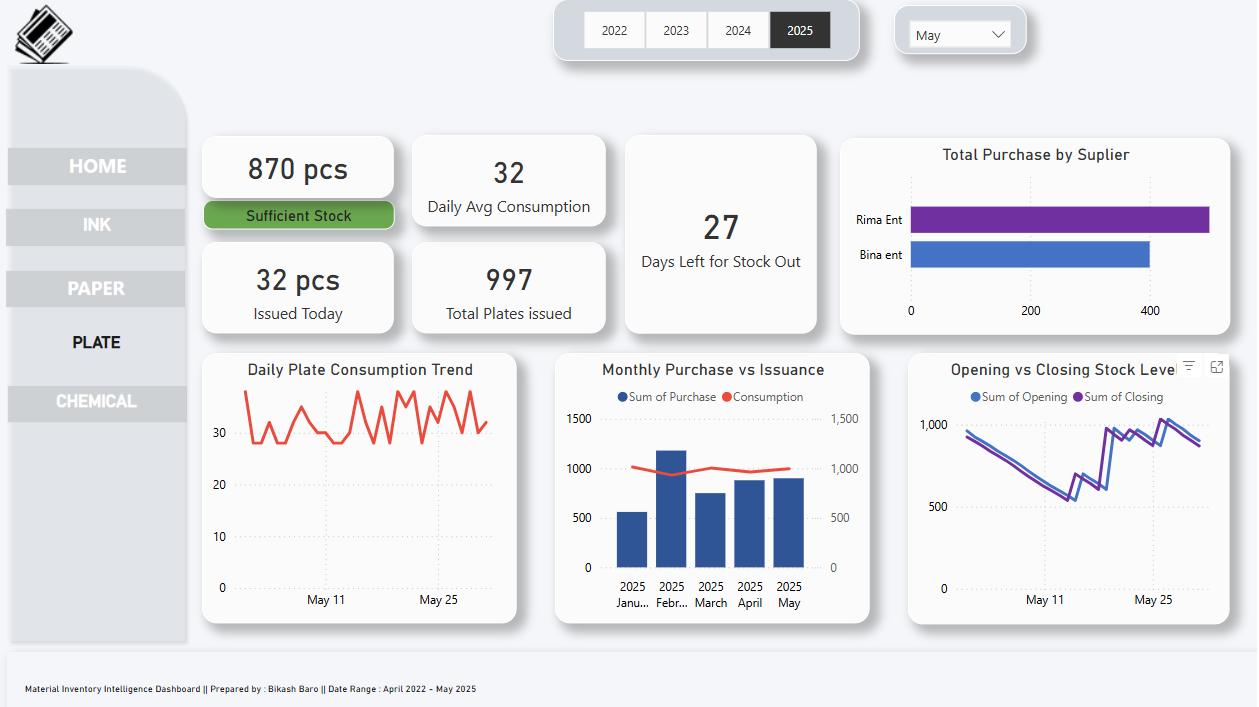

Layout of this report page (visuals, bound fields, positions):
{"tool":"powerbi","page":{"name":"Plate","canvas":[1280,720],"ordinal":3},"visuals":[{"type":"slicer","title":"Fiscal Year","fields":{"Values":["Paper.Date.Variation.Date Hierarchy.Year"]},"box":[563.3,0,311.7,63.3],"z":0},{"type":"slicer","title":"Fiscal Year","fields":{"Values":["Stock Register.Date.Variation.Date Hierarchy.Month"]},"box":[910,6.2,135,50],"z":1000},{"type":"shape","box":[0,59,196.8,601.8],"z":2000},{"type":"card","fields":{"Values":["Plate.Plate Status imported"]},"box":[207.3,204.5,195,30],"z":3000},{"type":"textbox","box":[8.4,334,182,36.4],"z":4000},{"type":"card","fields":{"Values":["Plate.Closing Stock Plates"]},"box":[206.4,139.1,195,62.7],"z":5000},{"type":"card","fields":{"Values":["Sum(Plate.Consumption)"]},"box":[420,246.7,196.7,93.3],"z":6000},{"type":"card","fields":{"Values":["Plate.issued yesterday Plates"]},"box":[206.7,246.7,195,93.3],"z":7000},{"type":"lineClusteredColumnComboChart","title":"Monthly Purchase vs Issuance","fields":{"Y":["Sum(Purchase Plate.Purchase)"],"Y2":["Sum(Plate.Consumption)"],"Category":["Paper.Date.Variation.Date Hierarchy.Year","Paper.Date.Variation.Date Hierarchy.Month"]},"box":[565.5,360,320,275],"z":8000},{"type":"lineChart","title":"Daily Plate Consumption Trend","fields":{"Y":["Sum(Plate.Consumption)"],"Category":["Paper.Date"]},"box":[206.7,360,320,275],"z":9000},{"type":"card","fields":{"Values":["Plate.Stock To Go"]},"box":[636.7,138.3,195,201.7],"z":10000},{"type":"barChart","title":"Total Purchase by Suplier","fields":{"Y":["Sum(Purchase Plate.Purchase)"],"Category":["Purchase Plate.Suplier"]},"box":[855,141.7,396.7,200],"z":11000},{"type":"lineChart","title":"Opening vs Closing Stock Levels","fields":{"Y":["Sum(Plate.Opening)","Sum(Plate.Closing)"],"Category":["Paper.Date"]},"box":[924.3,360,327.1,275.7],"z":12000},{"type":"image","box":[8,0,75,71],"z":14000},{"type":"shape","box":[8.6,664.3,1271.4,55.7],"z":16000},{"type":"card","fields":{"Values":["Plate.Daily Avg Consumption"]},"box":[420,138.3,196.7,93.3],"z":17000},{"type":"image","box":[4.4,142.5,191.9,56.9],"z":18000},{"type":"image","box":[2.4,267.2,192,55.6],"z":19000},{"type":"image","box":[4.4,385.6,191.9,53.1],"z":20000},{"type":"image","box":[2.4,196,192,71.2],"z":21000},{"type":"textbox","box":[21.4,685.7,852.9,34.3],"z":21001}]}

Visuals, with their boxes in screenshot pixels (x1, y1, x2, y2), scaled from the page's 1280x720 canvas onto the 1259x707 screenshot:
"Fiscal Year" slicer: pyautogui.locateOnScreen(554, 0, 861, 62)
"Fiscal Year" slicer: pyautogui.locateOnScreen(895, 6, 1028, 55)
shape: pyautogui.locateOnScreen(0, 58, 194, 649)
card - Plate.Plate Status imported: pyautogui.locateOnScreen(204, 201, 396, 230)
textbox: pyautogui.locateOnScreen(8, 328, 187, 364)
card - Plate.Closing Stock Plates: pyautogui.locateOnScreen(203, 137, 395, 198)
card - Sum(Plate.Consumption): pyautogui.locateOnScreen(413, 242, 607, 334)
card - Plate.issued yesterday Plates: pyautogui.locateOnScreen(203, 242, 395, 334)
"Monthly Purchase vs Issuance" lineClusteredColumnComboChart: pyautogui.locateOnScreen(556, 354, 871, 624)
"Daily Plate Consumption Trend" lineChart: pyautogui.locateOnScreen(203, 354, 518, 624)
card - Plate.Stock To Go: pyautogui.locateOnScreen(626, 136, 818, 334)
"Total Purchase by Suplier" barChart: pyautogui.locateOnScreen(841, 139, 1231, 336)
"Opening vs Closing Stock Levels" lineChart: pyautogui.locateOnScreen(909, 354, 1231, 624)
image: pyautogui.locateOnScreen(8, 0, 82, 70)
shape: pyautogui.locateOnScreen(8, 652, 1258, 706)
card - Plate.Daily Avg Consumption: pyautogui.locateOnScreen(413, 136, 607, 227)
image: pyautogui.locateOnScreen(4, 140, 193, 196)
image: pyautogui.locateOnScreen(2, 262, 191, 317)
image: pyautogui.locateOnScreen(4, 379, 193, 431)
image: pyautogui.locateOnScreen(2, 192, 191, 262)
textbox: pyautogui.locateOnScreen(21, 673, 860, 706)
